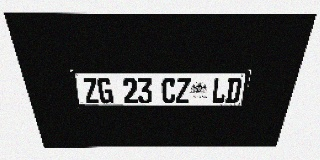2: (122, 78, 138, 103)
3: (137, 78, 152, 103)
C: (162, 78, 176, 103)
D: (225, 78, 243, 103)
G: (97, 78, 114, 103)
L: (211, 78, 228, 103)
Z: (82, 78, 100, 103), (175, 78, 191, 103)
